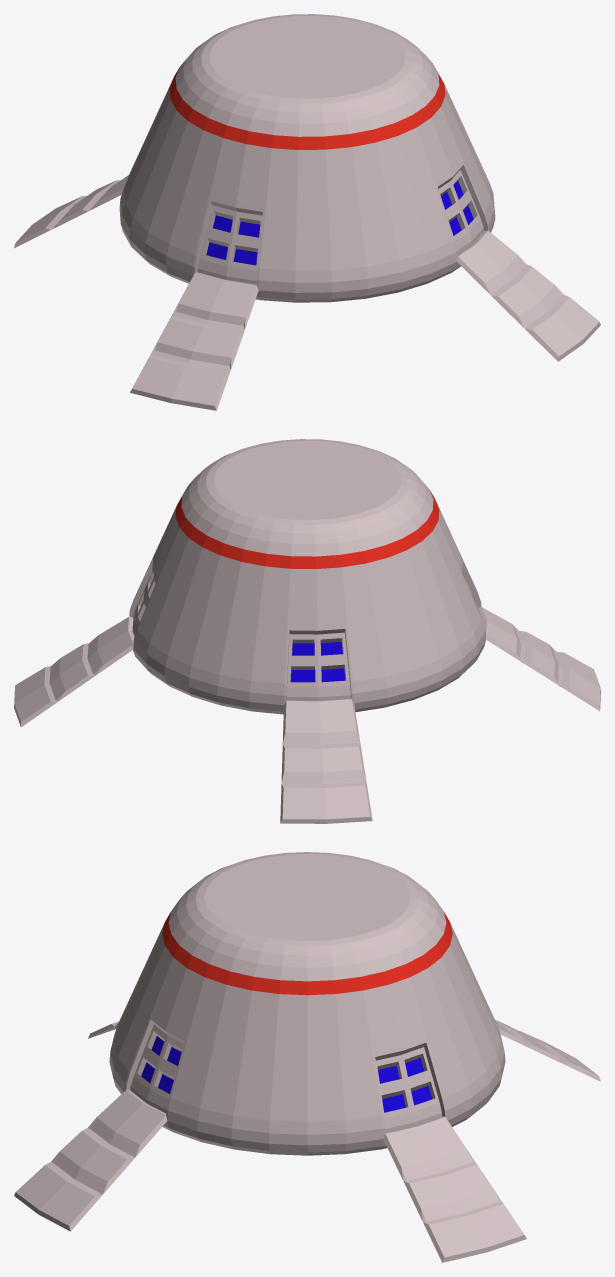
3 views of the same model, one above another, from view 1: azimuth 30°, elevation 25°; view 2: azimuth 150°, elevation 25°; view 3: azimuth 270°, elevation 25° (orthographic). The views are drawn at different scales.
Parts seen in each view (by area): view 1: Cylinder; view 2: Cylinder; view 3: Cylinder.
Boxes of the visible parts, x1,y1,x2,y2 form: Cylinder: (14,14,600,410); Cylinder: (14,439,600,823); Cylinder: (14,852,600,1262).
Size of the model in its own units: 1202 by 546 by 1202.
